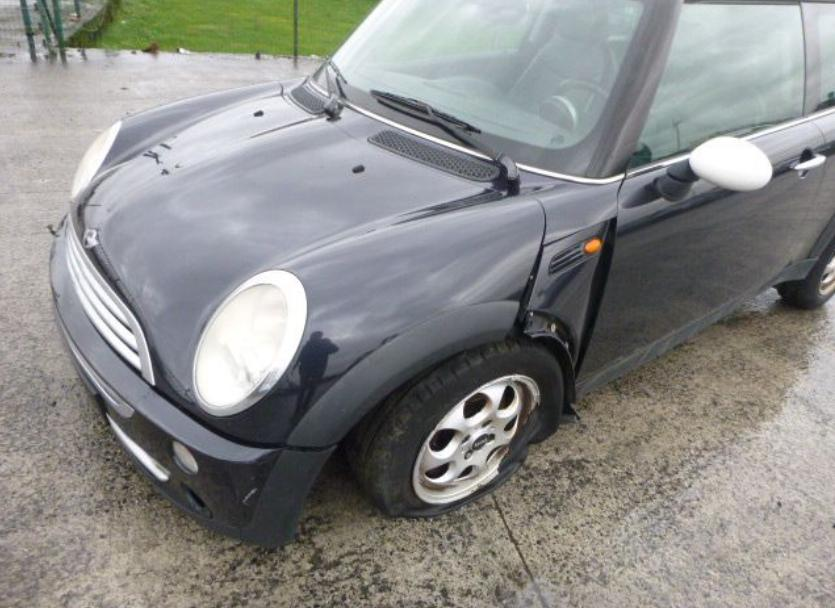Back-door: (785, 0, 834, 282)
Back-wheel: (776, 239, 835, 309)
Back-window: (807, 2, 835, 115)
Fender: (522, 180, 623, 366)
Front-bumper: (51, 207, 340, 553)
Front-door: (578, 4, 828, 384)
Front-wheel: (340, 343, 565, 520)
Front-window: (625, 2, 804, 168)
Grille: (65, 220, 158, 396)
Headlight: (192, 269, 308, 417), (72, 120, 124, 210)
Hood: (76, 82, 544, 446)
License-plate: (55, 314, 134, 440)
Mirror: (689, 136, 775, 190)
Rocker-panel: (577, 265, 791, 403)
Windshield: (313, 0, 664, 184)
